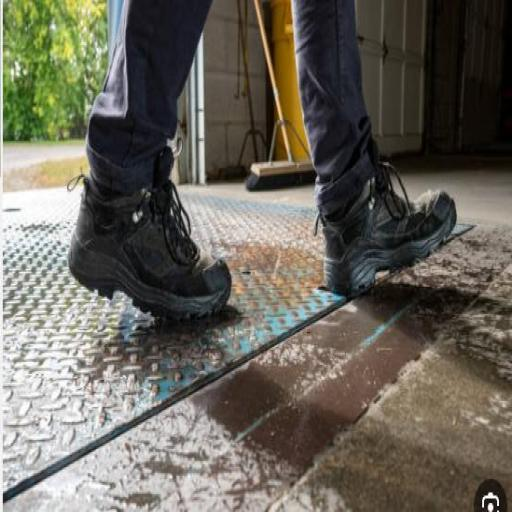safety_boots: (56, 177, 230, 330), (287, 183, 472, 298)
